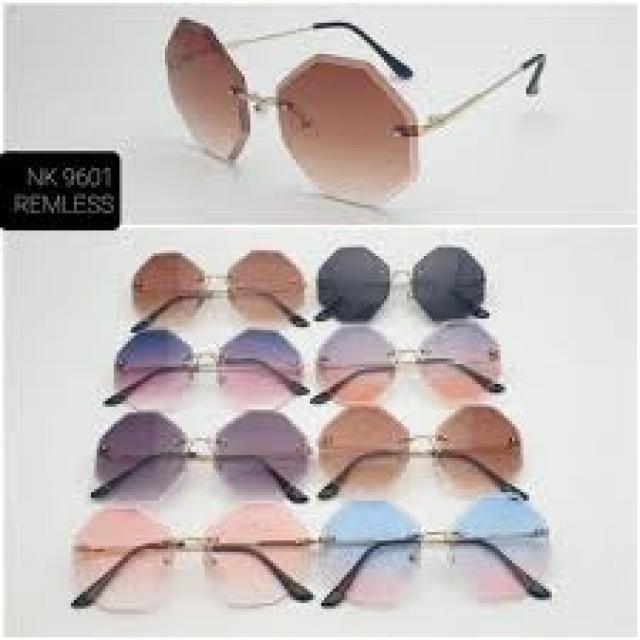suspicious-objects: (152, 1, 451, 215)
